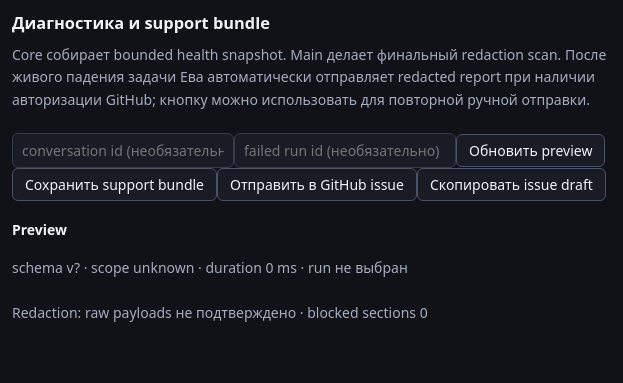
Scenario: diagnostics and support bundle panel › sends the redacted bundle only after explicit confirmation
Click the button "Отправить в GitHub issue". click: click(317, 185)
box: [217,168,417,201]
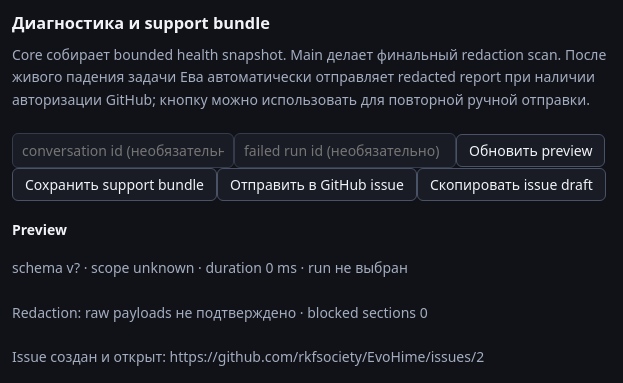
Expected: the message "Issue создан и открыт: https://github.com/rkfsociety/EvoHime/issues/2" is shown, [12,347,484,366]
